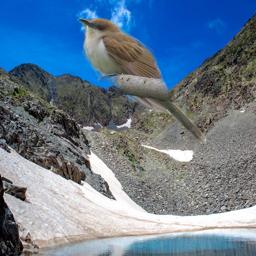Cuckoo: (77, 18, 208, 145)
